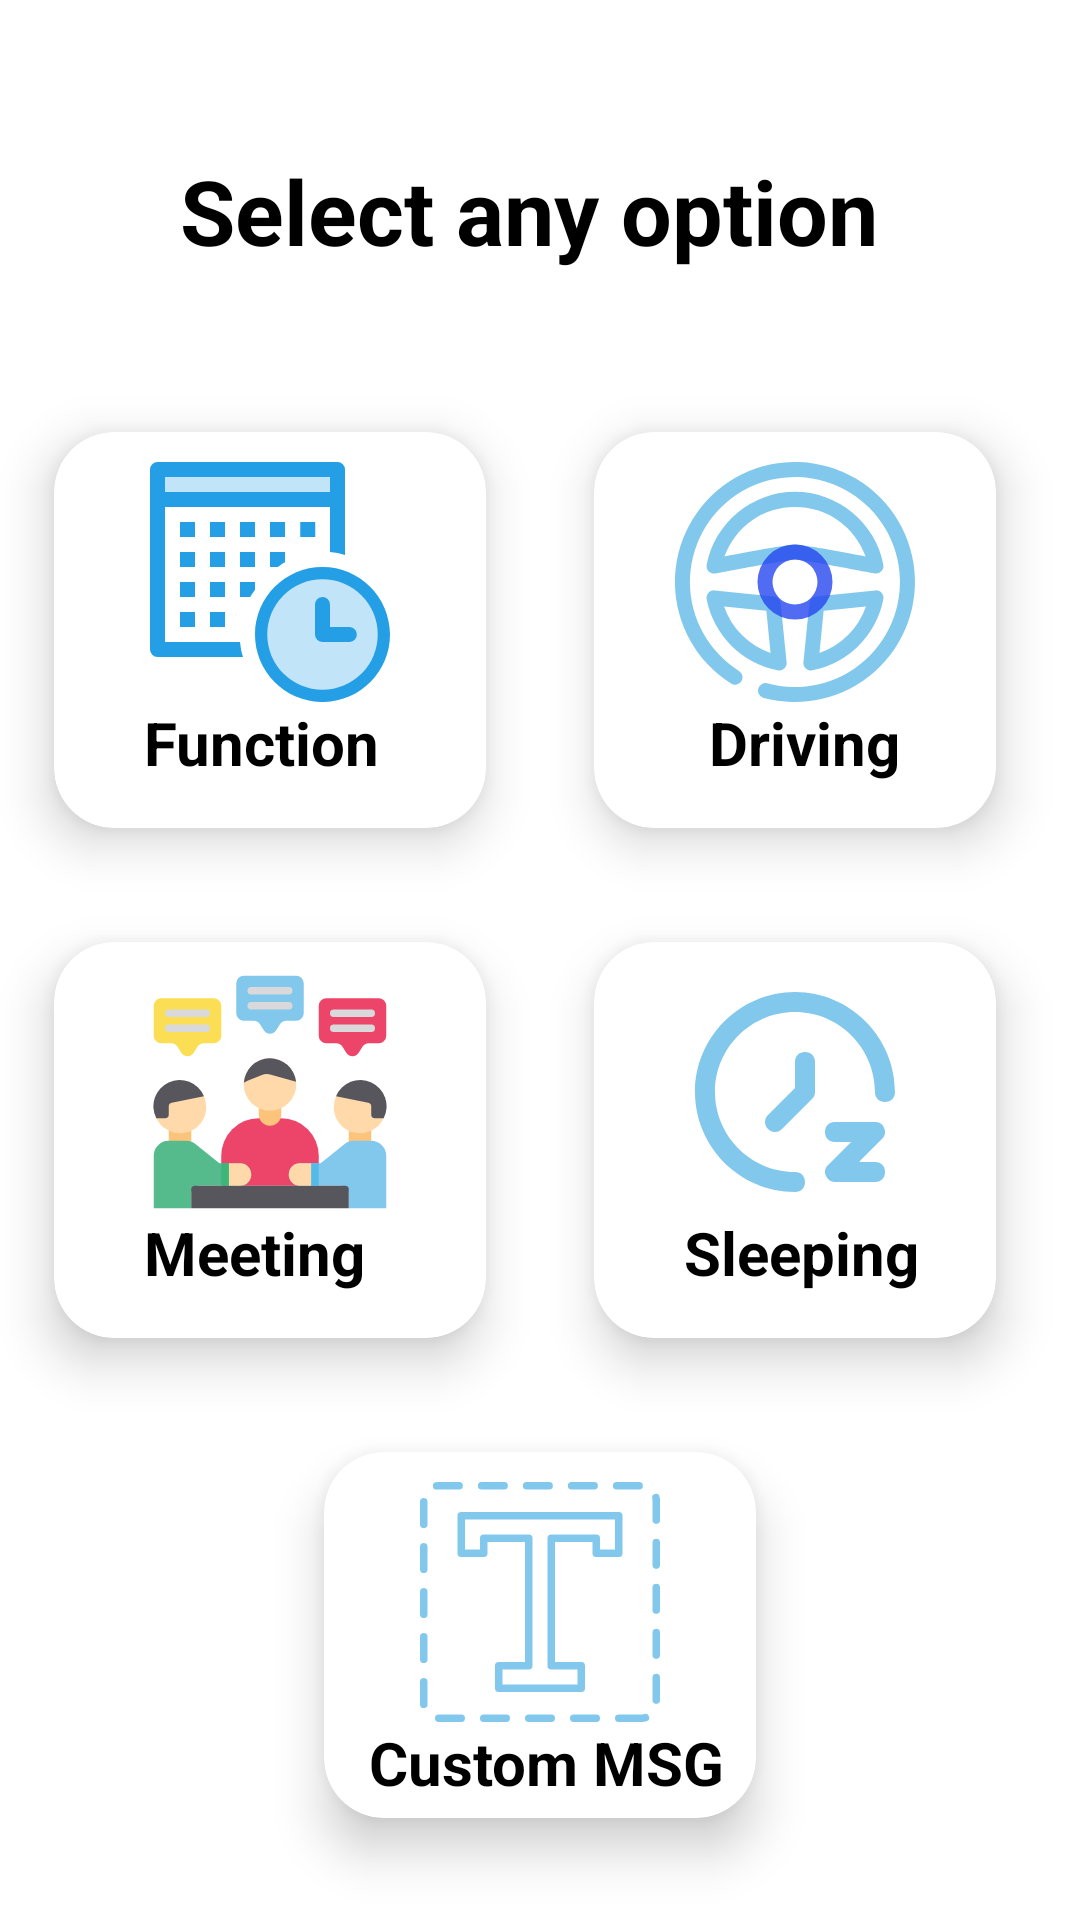

Icon bounding boxes for this 1080 × 1920 phone screenshot, format (x1, y1, x2, y2):
steering: (675, 462, 915, 702)
